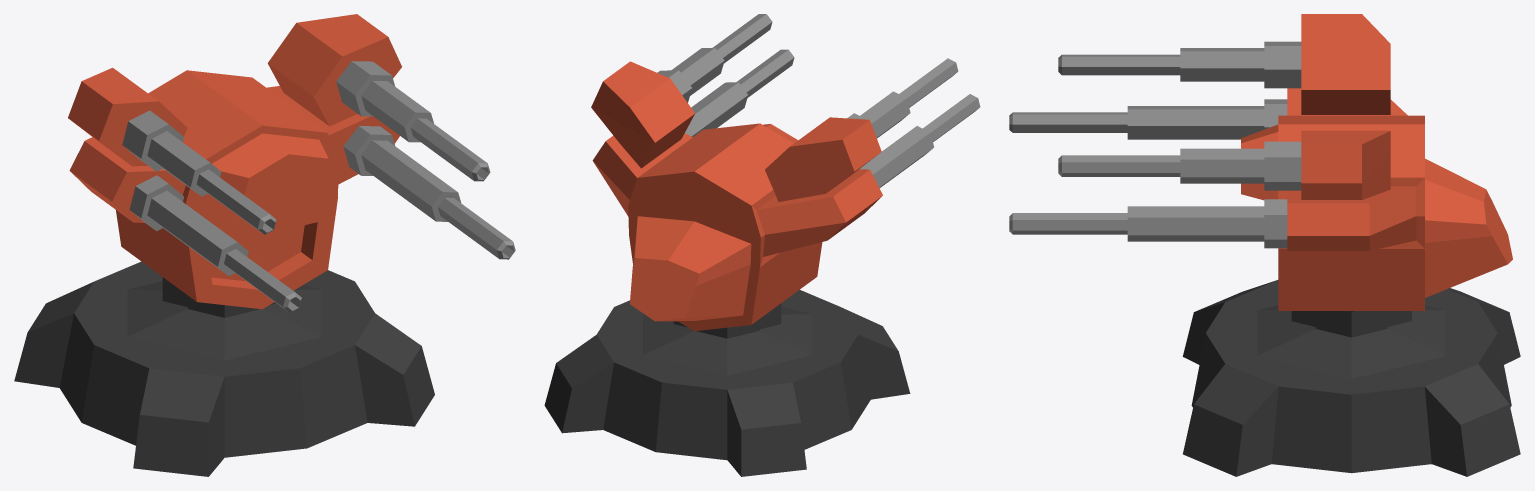
File: Turrets_8.fbx
3 renders of one model, left to right at view 1: azimuth 30°, elevation 25°; view 2: azimuth 150°, elevation 25°; view 3: azimuth 270°, elevation 25°, orthographic. The views are drawn at different scales.
Parts seen in each view (by area): view 1: Turret_1.002, Turret_1.004, Turret_1.003; view 2: Turret_1.004, Turret_1.002, Turret_1.003; view 3: Turret_1.002, Turret_1.004, Turret_1.003.
Boxes of the visible parts, box(x1,y1,x2,y2) form: Turret_1.002: box(14, 261, 434, 476); Turret_1.004: box(68, 14, 401, 309); Turret_1.003: box(122, 61, 515, 312); Turret_1.004: box(591, 61, 882, 331); Turret_1.002: box(544, 290, 910, 476); Turret_1.003: box(657, 14, 980, 188); Turret_1.002: box(1182, 280, 1520, 476); Turret_1.004: box(1241, 14, 1512, 310); Turret_1.003: box(1009, 41, 1301, 248).
Size of the model in its own units: 2.12 by 2.25 by 3.2.
